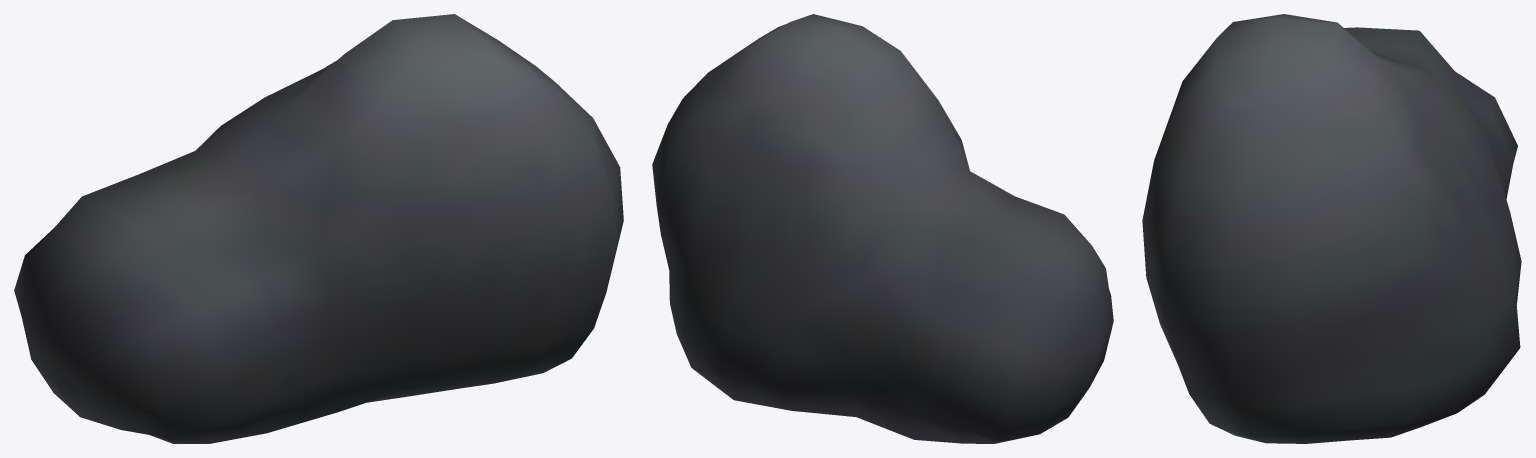
Rendered from M_Environment_StoneS_01.fbx.
3 renders of one model, left to right at view 1: azimuth 30°, elevation 25°; view 2: azimuth 150°, elevation 25°; view 3: azimuth 270°, elevation 25°, orthographic. The views are drawn at different scales.
Visible parts, largest first — view 1: M_Environment_StoneS_01; view 2: M_Environment_StoneS_01; view 3: M_Environment_StoneS_01.
Part boxes in pixels (bbox=[...]): M_Environment_StoneS_01: bbox=[14, 14, 623, 443]; M_Environment_StoneS_01: bbox=[652, 14, 1113, 443]; M_Environment_StoneS_01: bbox=[1142, 14, 1521, 443].
Size of the model in its own units: 338 by 228 by 204.
Materials: 1 (1 with a texture image).
